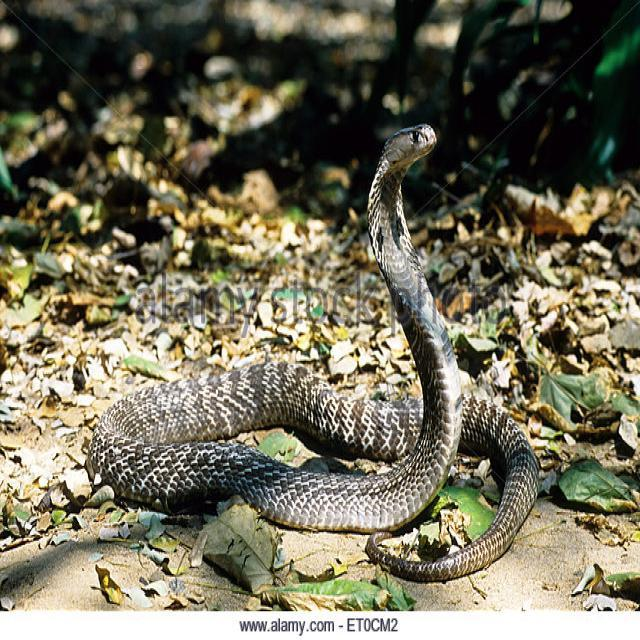Snake: (84, 120, 540, 582)
